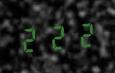two: (18, 23, 43, 54), (71, 18, 96, 49), (45, 21, 70, 51)
